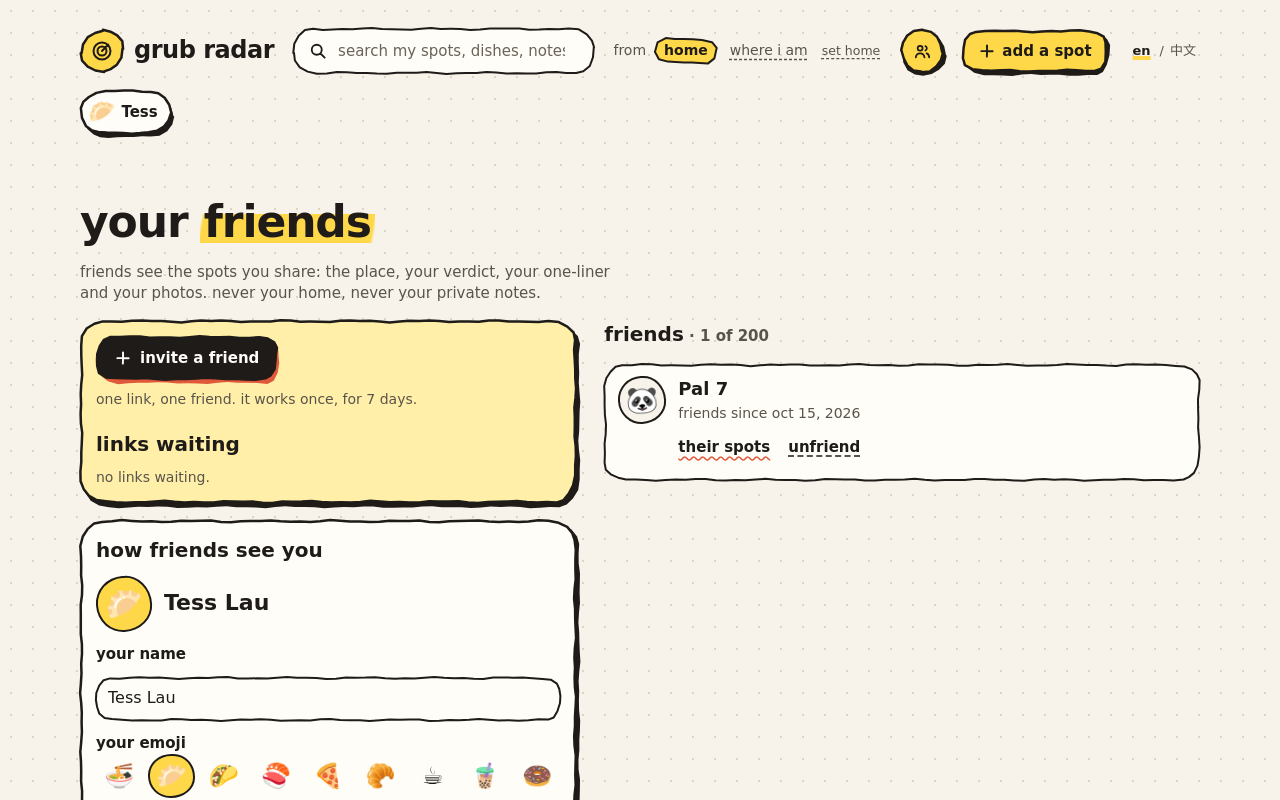
Test: the friends page › unfriends after a confirm
The width and height of the screenshot is (1280, 800).
Click the button "unfriend".
click(824, 447)  # box [784,431,864,463]
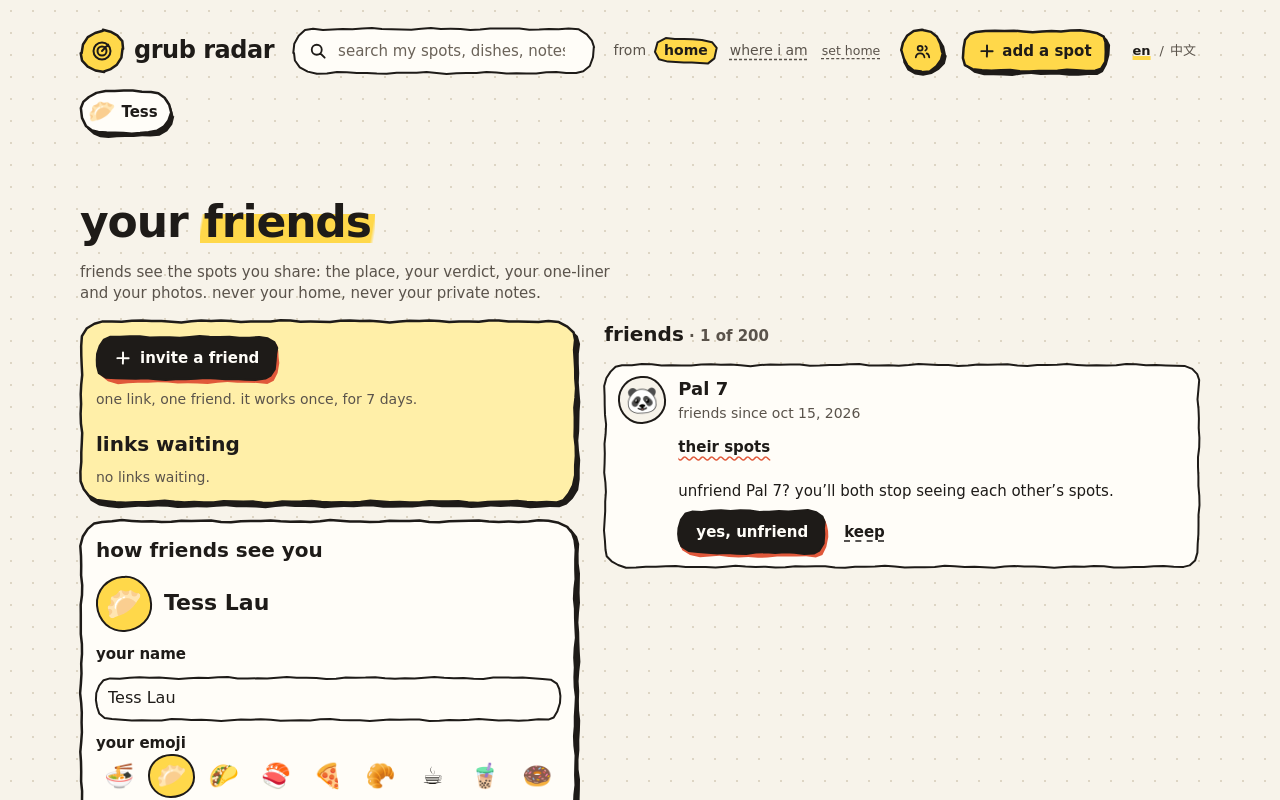
Click the button "yes, unfriend".
click(752, 532)  # box [678,510,826,554]
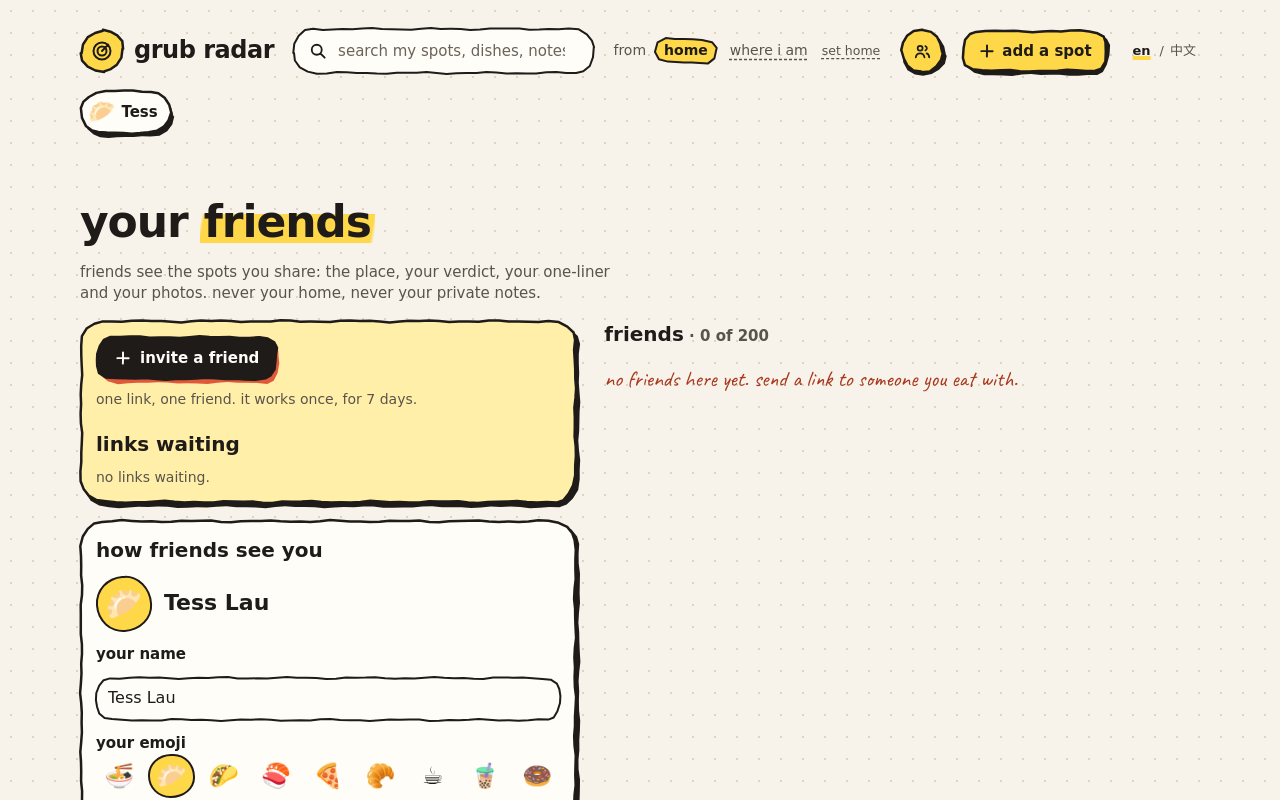
Now the text "no friends here yet. send a link to someone you eat with." is shown, box [604,365,1018,393]
